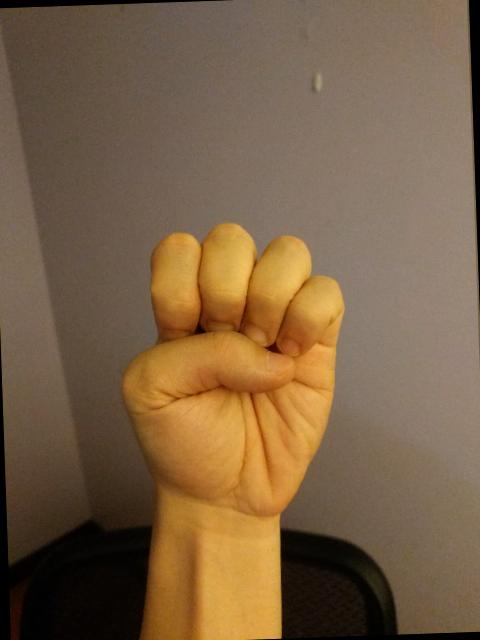E: (111, 214, 358, 526)
